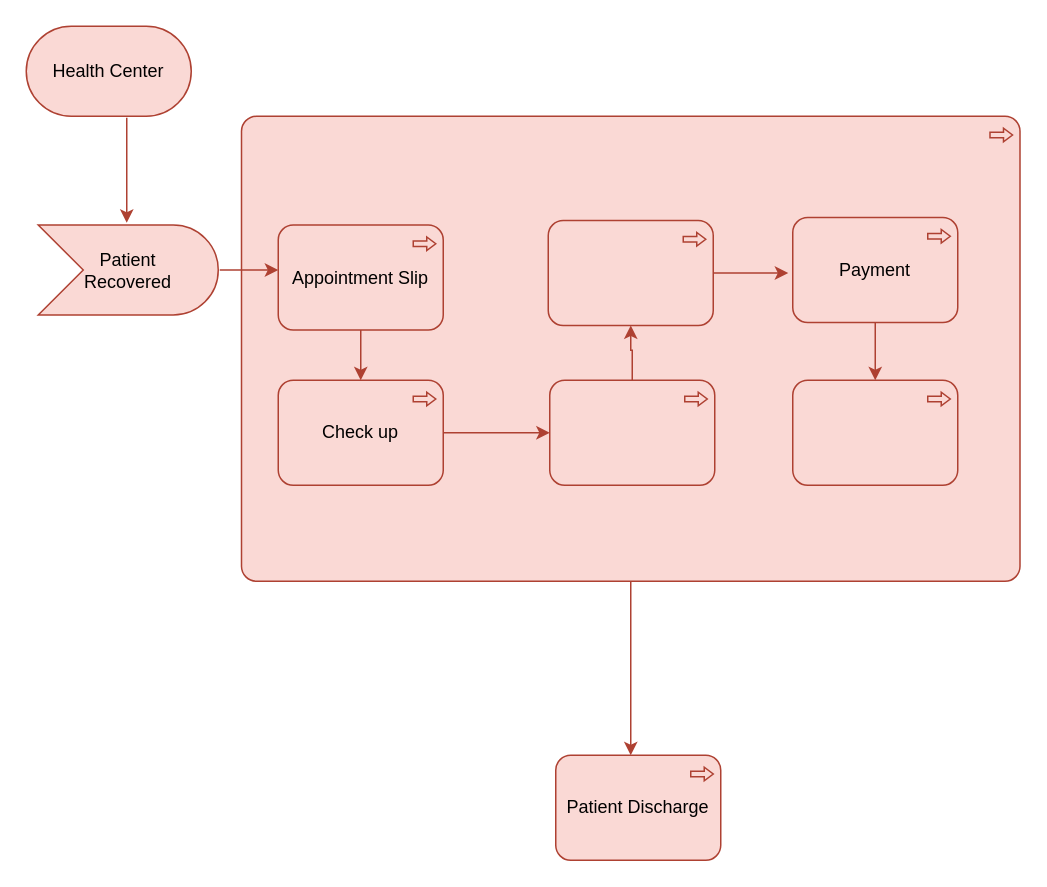
Some shapes in this 1047 by 887 pixel diagram are drawn without their labels. Each missing label, with the centre of its shape:
Give Prescription: point (631, 432)
Receipt: point (874, 432)
Schedule Follow Up: point (630, 272)
